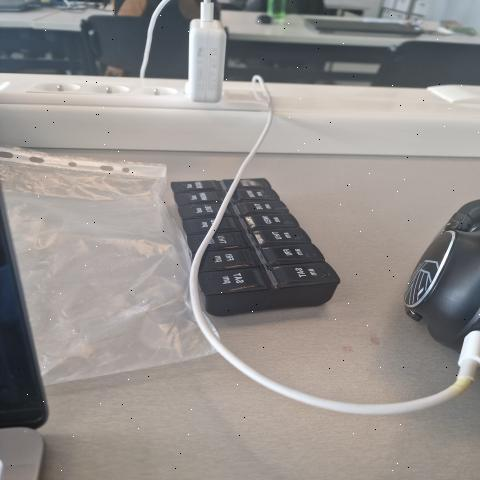PillBox: (135, 166, 352, 333)
